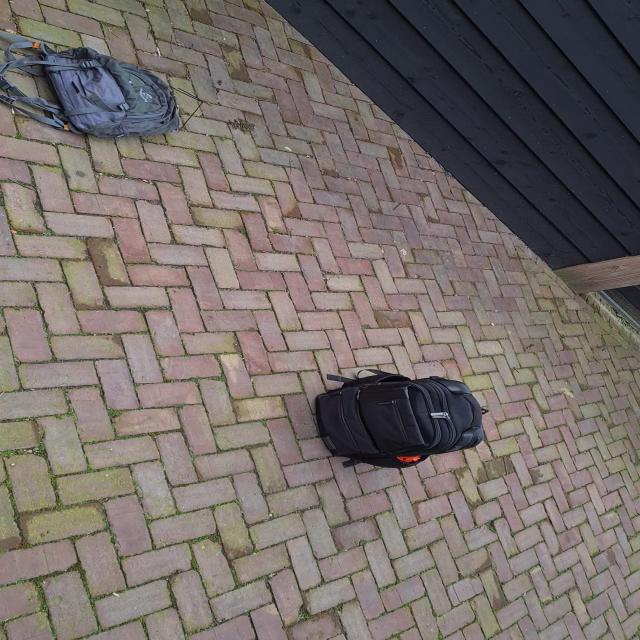backpack: (304, 367, 493, 468), (0, 41, 189, 141)
